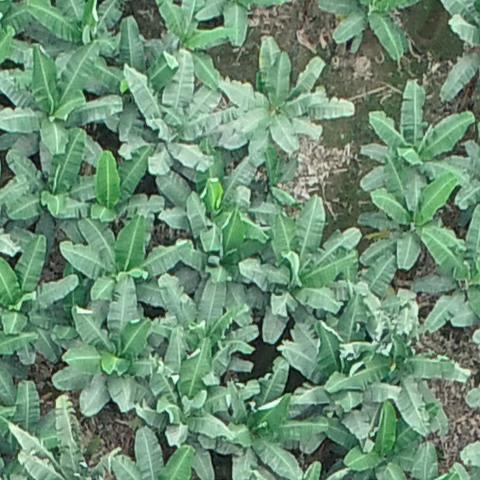Banana-plant: (331, 290, 470, 435), (53, 276, 186, 420), (241, 196, 362, 349), (220, 33, 354, 162), (216, 36, 354, 157), (197, 361, 329, 478), (274, 303, 378, 445), (61, 211, 189, 325), (154, 147, 266, 276), (0, 46, 128, 158), (358, 77, 475, 197), (128, 344, 261, 449), (120, 49, 227, 178), (145, 267, 258, 382), (356, 170, 468, 272), (0, 128, 104, 236), (0, 236, 84, 346), (412, 206, 480, 336), (150, 0, 234, 93), (317, 0, 421, 62)
